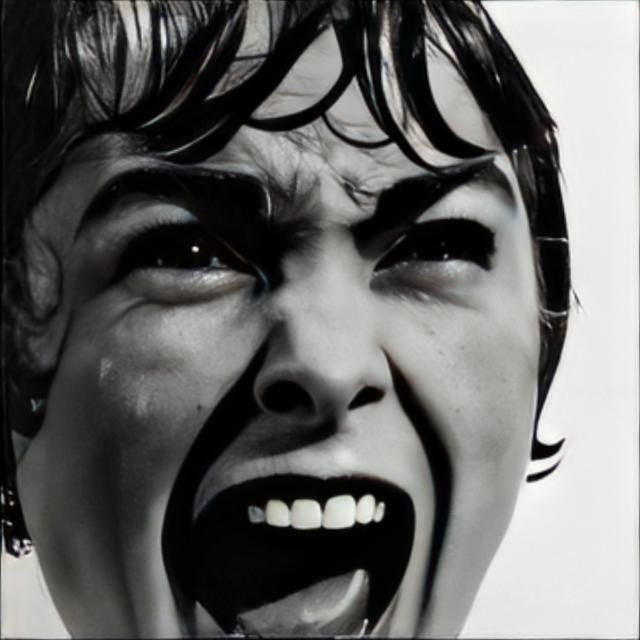fear: (6, 0, 540, 640)
